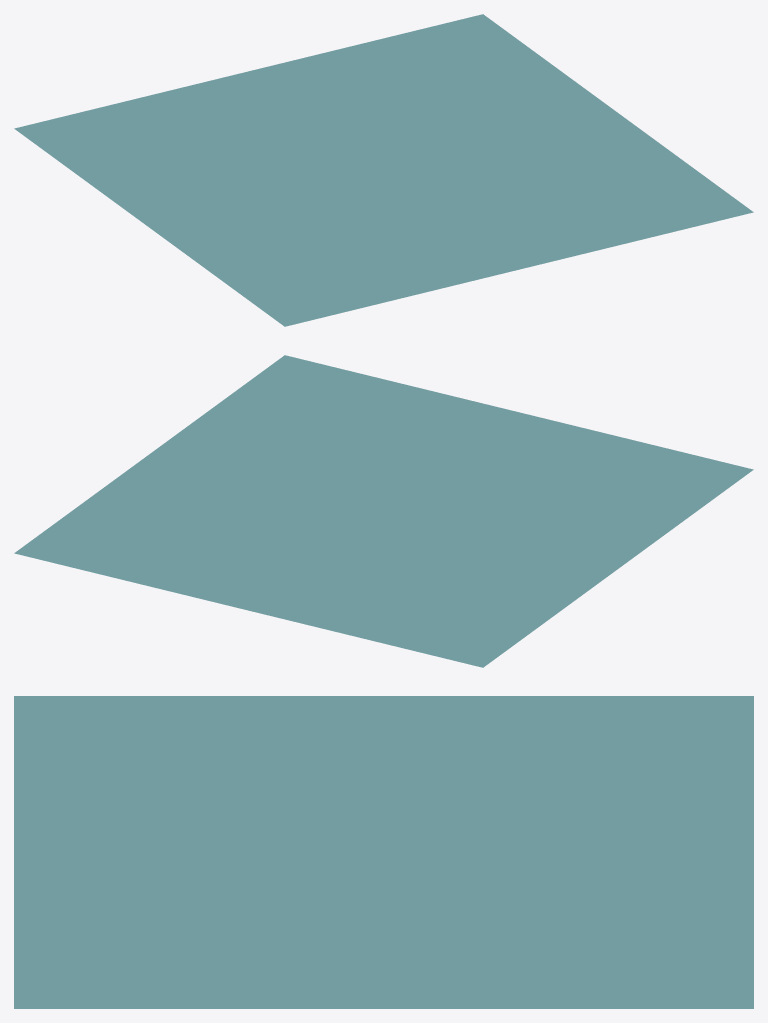
The model's file is water-15-18.glb.
3 renders of one model, top to bottom at view 1: azimuth 30°, elevation 25°; view 2: azimuth 150°, elevation 25°; view 3: azimuth 270°, elevation 25°, orthographic. The views are drawn at different scales.
Bounding box in the file's own units: 16 × 0 × 16.
